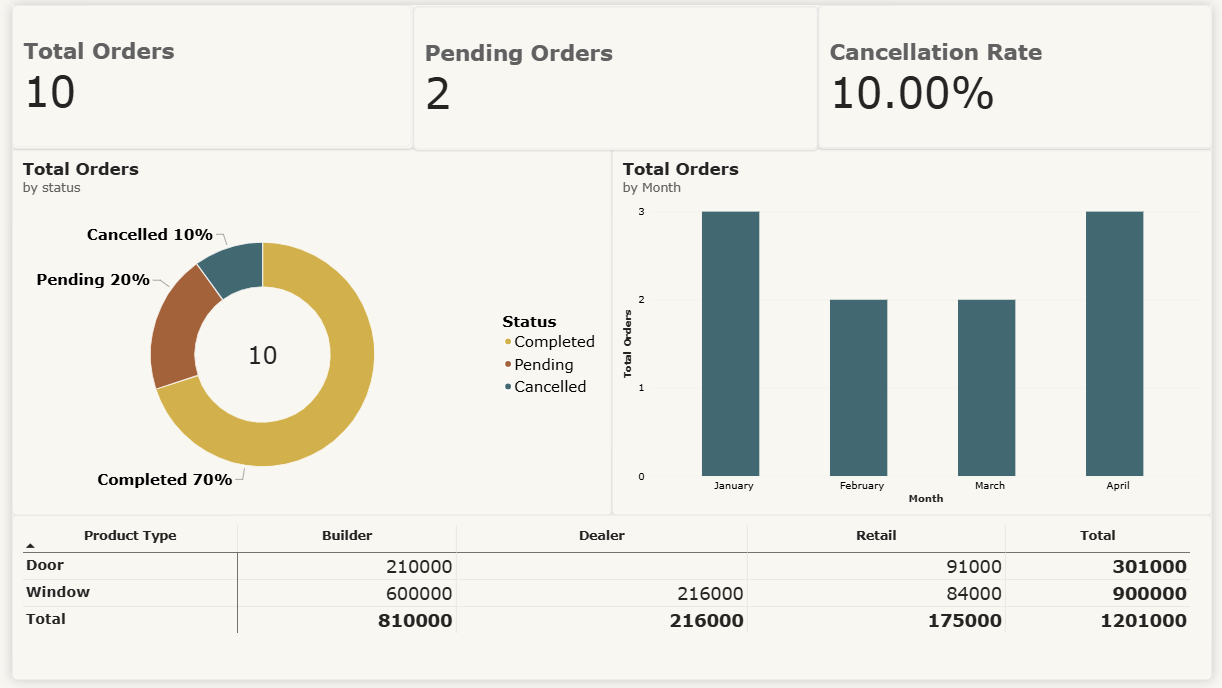

What the dashboard file says about the page in this screenshot:
{"tool":"powerbi","page":{"name":"Operations","canvas":[1920,1080],"ordinal":2},"visuals":[{"type":"donutChart","fields":{"Category":["orders.status"],"Y":["orders.Total Orders"]},"box":[0,230,960,586],"z":0},{"type":"clusteredColumnChart","fields":{"Category":["orders.order_date.Variation.Date Hierarchy.Month"],"Y":["orders.Total Orders"]},"box":[960,230,960,586],"z":1},{"type":"pivotTable","fields":{"Columns":["customers.customer_type"],"Rows":["orders.product_type"],"Values":["orders.Total Revenue"]},"box":[0,816,1920,264],"z":2},{"type":"cardVisual","fields":{"Data":["orders.Total Orders"]},"box":[0,0,642,230],"z":3},{"type":"cardVisual","fields":{"Data":["orders.Pending Orders"]},"box":[642,2,648,230],"z":4},{"type":"cardVisual","fields":{"Data":["orders.Cancellation Rate"]},"box":[1290,0,630,230],"z":5}]}

Visuals, with their boxes in screenshot pixels (x1, y1, x2, y2), scaled from the page's 1920x1080 canvas onto the 1222x688 screenshot:
donutChart - orders.status x orders.Total Orders: {"left": 0, "top": 147, "right": 611, "bottom": 520}
clusteredColumnChart - orders.order_date.Variation.Date Hierarchy.Month x orders.Total Orders: {"left": 611, "top": 147, "right": 1221, "bottom": 520}
pivotTable - customers.customer_type x orders.product_type: {"left": 0, "top": 520, "right": 1221, "bottom": 687}
cardVisual - orders.Total Orders: {"left": 0, "top": 0, "right": 409, "bottom": 147}
cardVisual - orders.Pending Orders: {"left": 409, "top": 1, "right": 821, "bottom": 148}
cardVisual - orders.Cancellation Rate: {"left": 821, "top": 0, "right": 1221, "bottom": 147}
